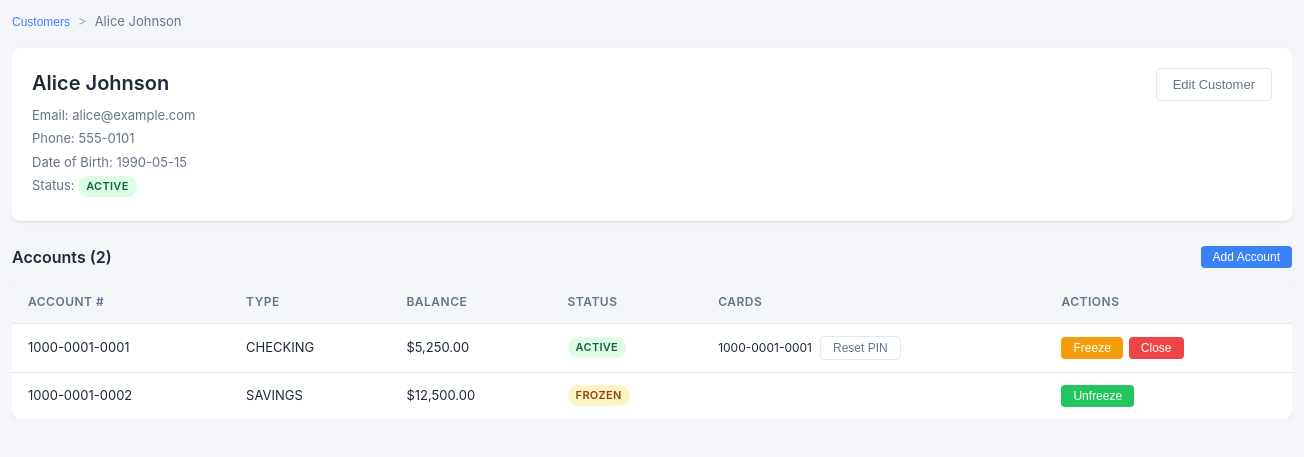
Test: CustomerDetailPage › shows error on freeze failure
The width and height of the screenshot is (1304, 457).
Click the button "Freeze" at (1092, 348), box [1062, 336, 1123, 358]
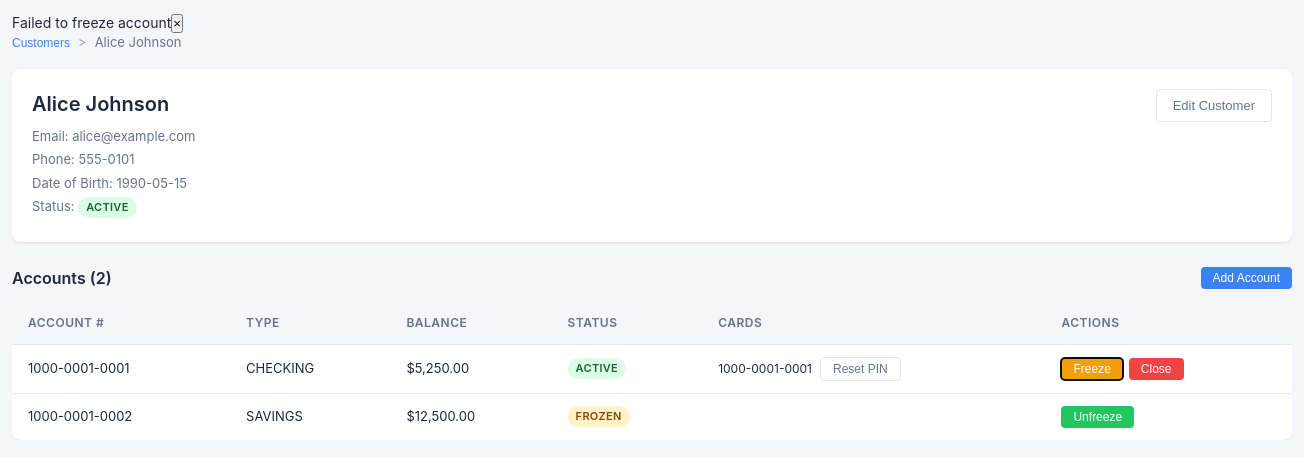
Result: the text "Failed to freeze account" is shown at [12, 14, 171, 31]
